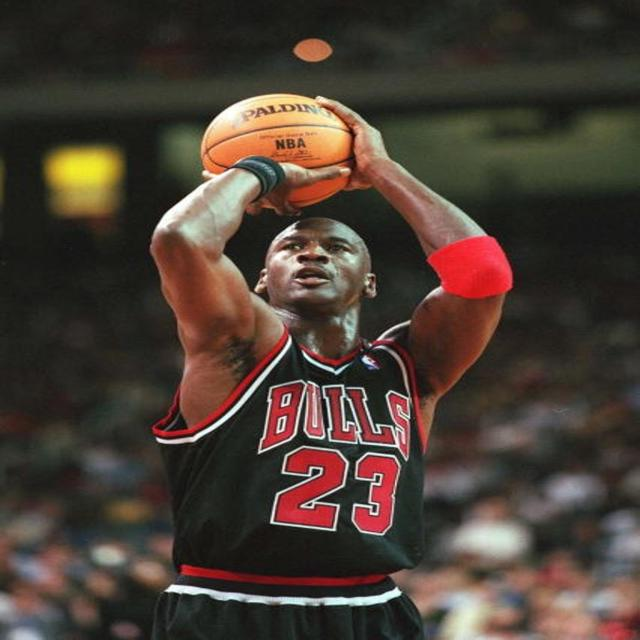Face: (266, 219, 379, 305)
